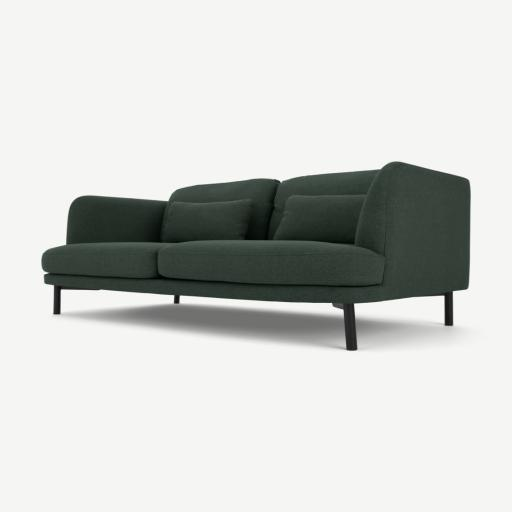back_cushion: (160, 170, 377, 239)
base: (45, 274, 462, 303)
left_arm: (356, 162, 470, 299)
legs: (333, 304, 357, 350), (53, 286, 85, 314), (445, 294, 452, 322), (174, 296, 179, 303)
right_arm: (66, 196, 166, 244)
seat_cushion: (42, 240, 384, 286)
two-seater: (0, 0, 511, 512)
